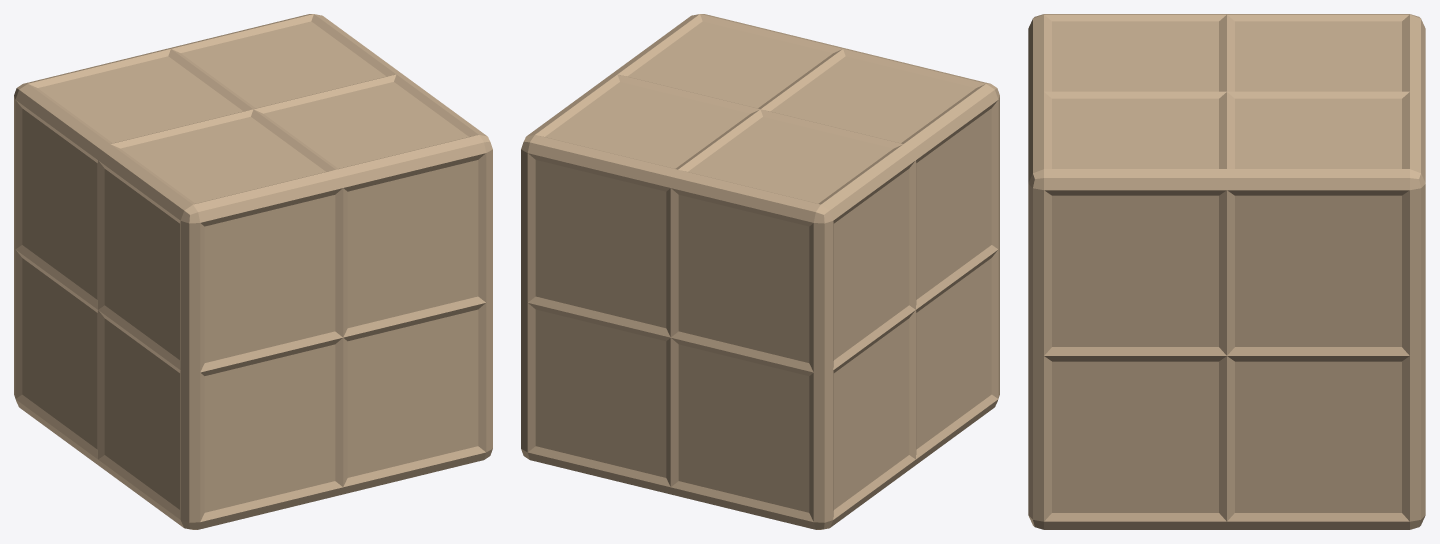
Rendered from SM_PRD_Workbench_LG.fbx.
3 views of the same model, side by side, from view 1: azimuth 30°, elevation 25°; view 2: azimuth 150°, elevation 25°; view 3: azimuth 270°, elevation 25° (orthographic). The views are drawn at different scales.
Parts seen in each view (by area): view 1: SM_PRD_Workbench_LG; view 2: SM_PRD_Workbench_LG; view 3: SM_PRD_Workbench_LG.
Boxes of the visible parts, x1,y1,x2,y2 form: SM_PRD_Workbench_LG: (14,14,492,529); SM_PRD_Workbench_LG: (521,14,999,529); SM_PRD_Workbench_LG: (1028,14,1425,529).
Size of what is drawn, in the model's own units: 2.5 by 2.5 by 2.5.
